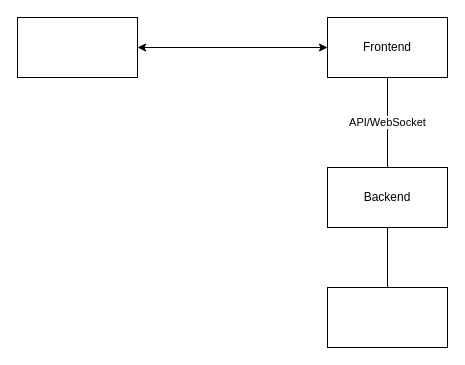
Some shapes in this 465 by 365 pixel diagram are drawn without their labels. Each missing label, with the centre of its shape:
Bogus Lib: the point at 387,317
User: the point at 77,47
